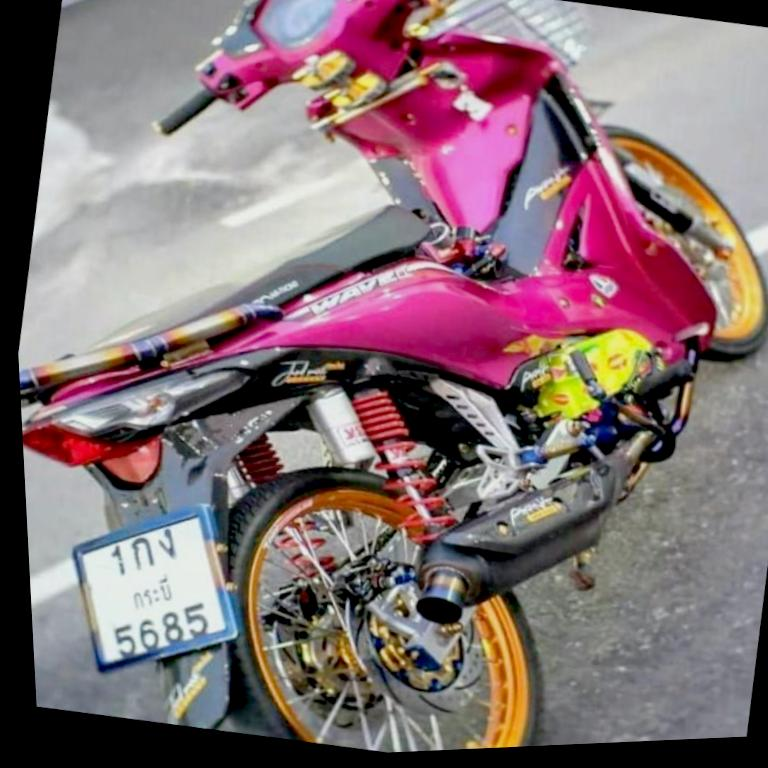license plate: (73, 506, 235, 669)
